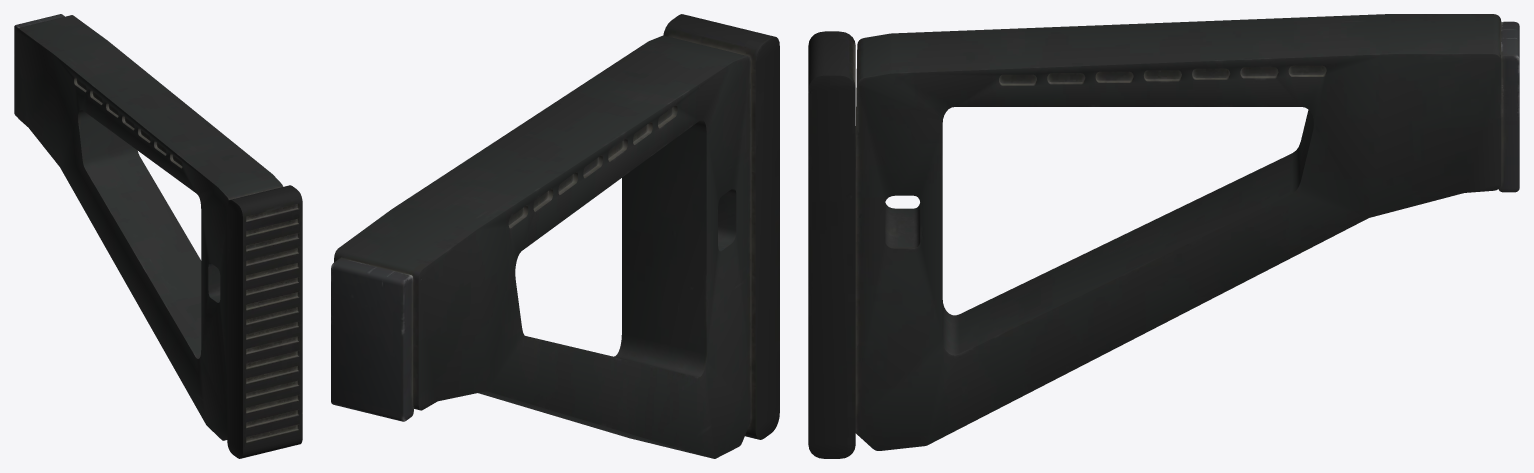
The model's file is coronha_esqueleto_ak.glb.
3 renders of one model, left to right at view 1: azimuth 30°, elevation 25°; view 2: azimuth 150°, elevation 25°; view 3: azimuth 270°, elevation 25°, orthographic. The views are drawn at different scales.
Parts seen in each view (by area): view 1: coronha_esqueleto_ak_coronha; view 2: coronha_esqueleto_ak_coronha; view 3: coronha_esqueleto_ak_coronha.
Boxes of the visible parts, x1,y1,x2,y2 form: coronha_esqueleto_ak_coronha: (14,14,302,458); coronha_esqueleto_ak_coronha: (331,14,779,458); coronha_esqueleto_ak_coronha: (808,14,1519,458).
Bounding box in the file's own units: 0.034 × 0.145 × 0.232.
Materials: 1 (1 with a texture image).
